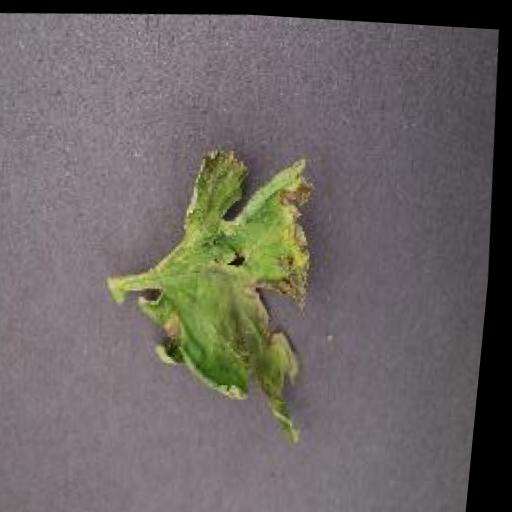Late Blight: (120, 129, 340, 445)
